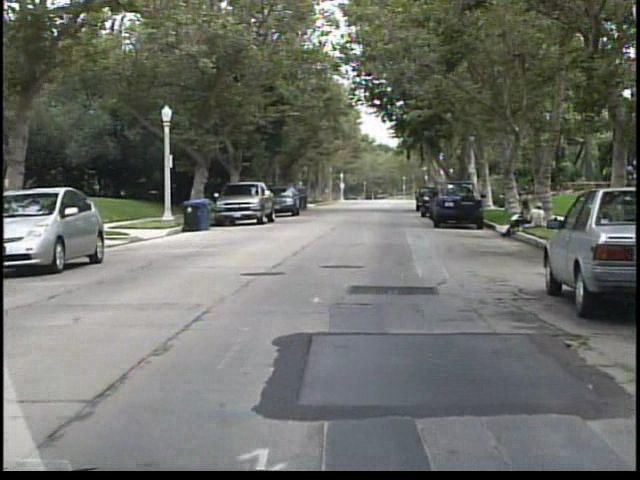person: (502, 197, 536, 240), (520, 202, 547, 236)
